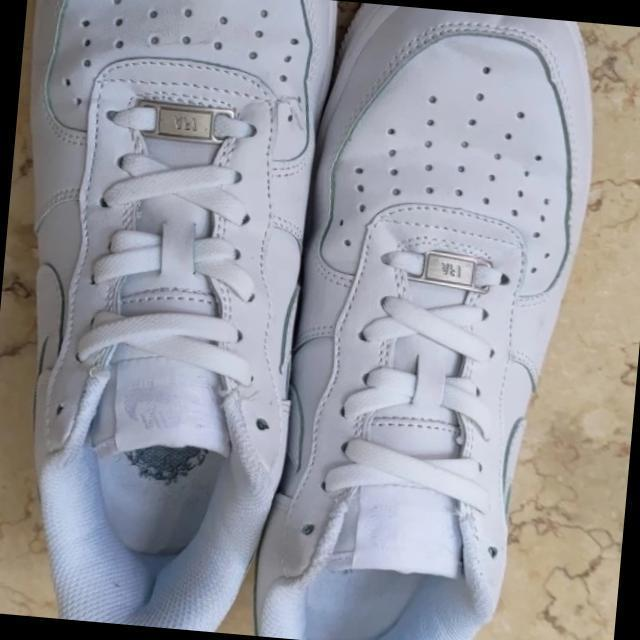nike fake air force: (249, 0, 609, 640), (0, 0, 342, 638), (0, 209, 311, 632)
